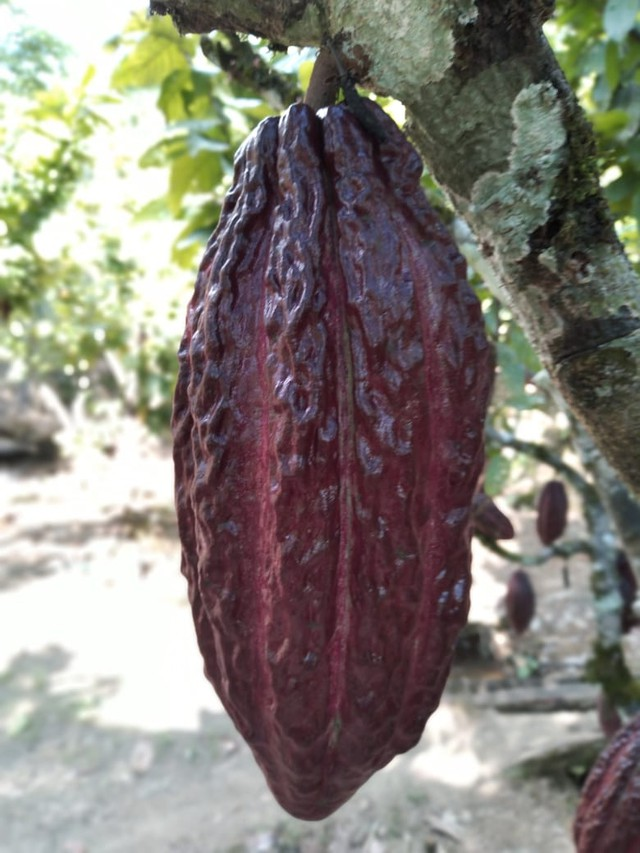Health: (150, 89, 508, 832)
